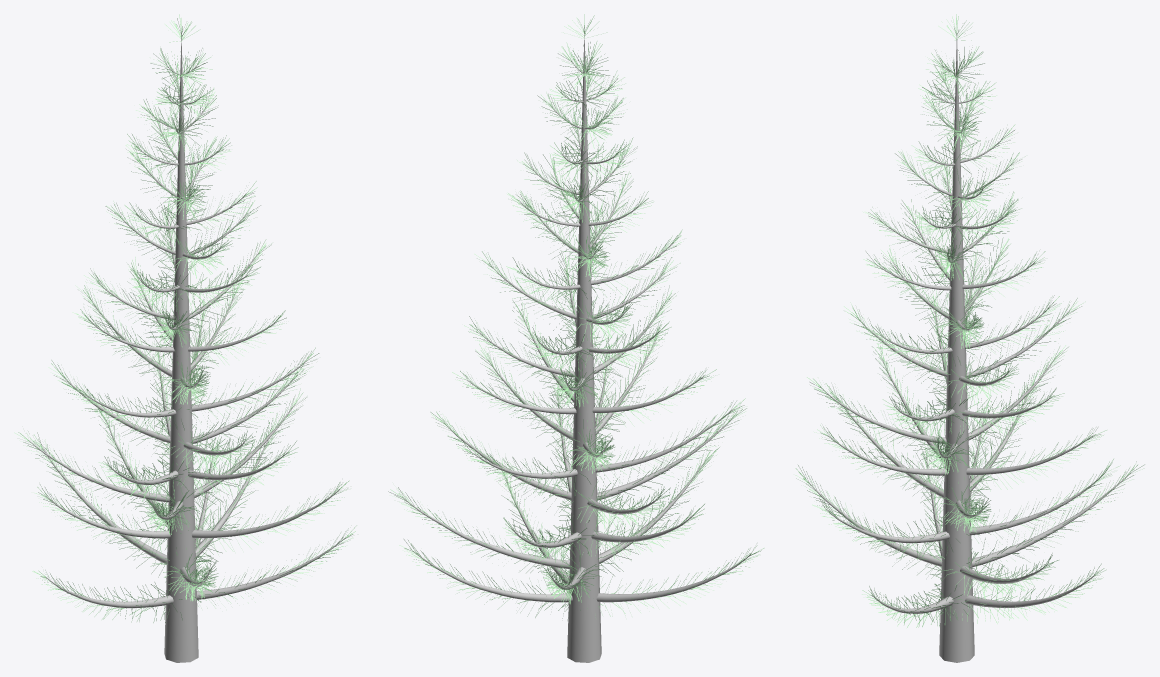
File: Sapin_Alban_LOD0.fbx
3 views of the same model, side by side, from view 1: azimuth 30°, elevation 25°; view 2: azimuth 150°, elevation 25°; view 3: azimuth 270°, elevation 25° (orthographic).
Visible parts, largest first — view 1: Sapin-Alban_LOD0.004; view 2: Sapin-Alban_LOD0.004; view 3: Sapin-Alban_LOD0.004.
Boxes of the visible parts, bbox=[...] form: Sapin-Alban_LOD0.004: bbox=[14, 14, 356, 662]; Sapin-Alban_LOD0.004: bbox=[388, 14, 764, 662]; Sapin-Alban_LOD0.004: bbox=[795, 14, 1144, 662].
Size of the model in its own units: 199 by 390 by 195.
